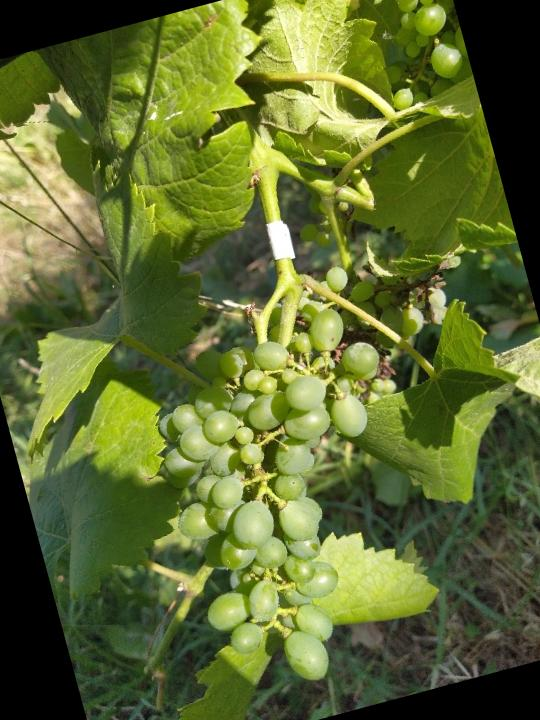grape: (104, 294, 464, 719)
